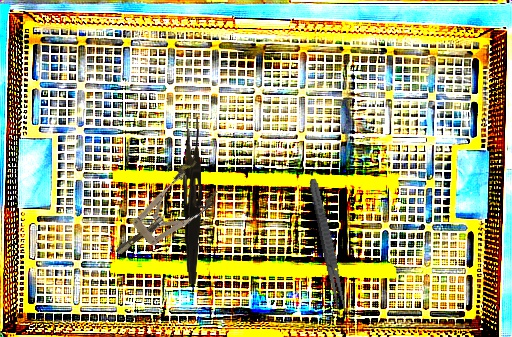Dressing Forceps: (305, 177, 351, 315), (180, 116, 205, 285)
Speculum: (100, 156, 225, 272)
